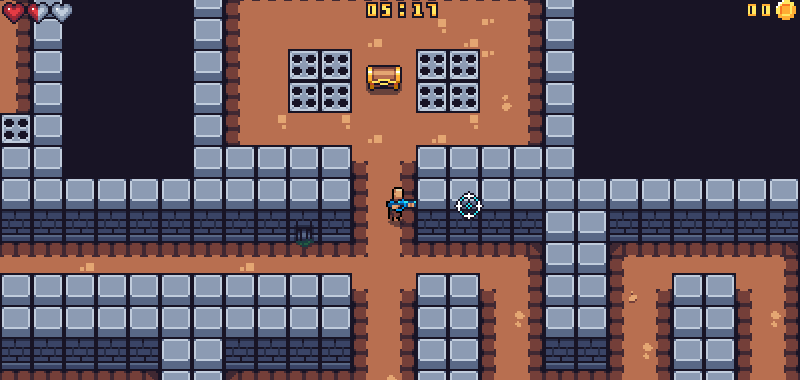trap_off: (287, 49, 352, 114), (415, 49, 478, 113)
treasury_close: (364, 61, 403, 94)
